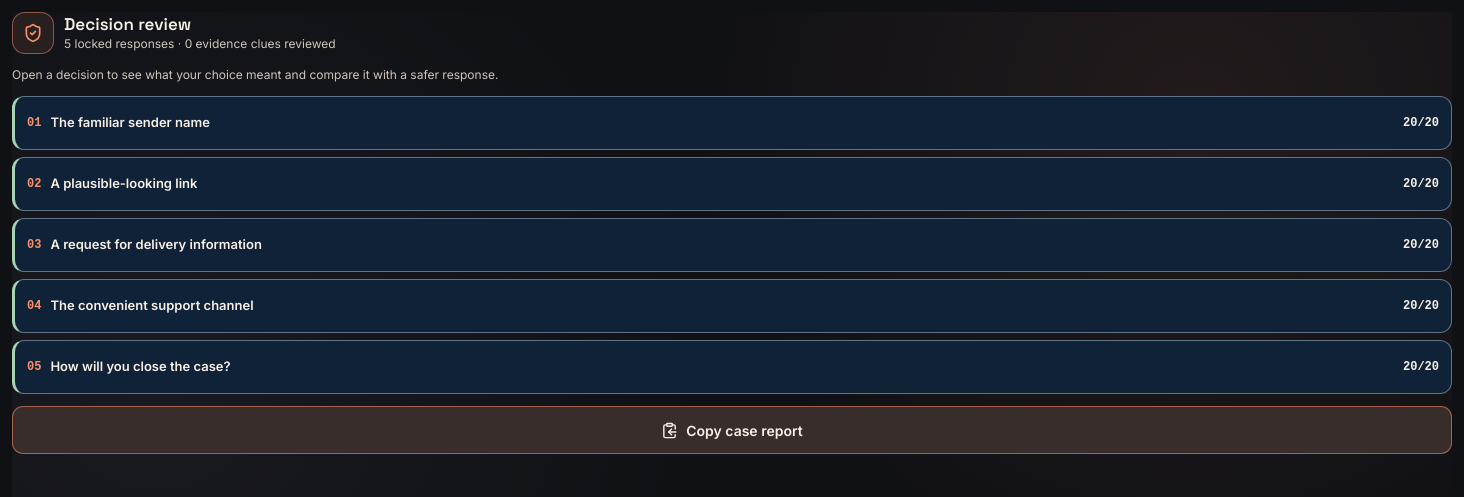
Test: Batch 2D mission completion report › copies only when the player activates the report button
Click the button "Copy case report": click(732, 430) [12,406,1452,454]
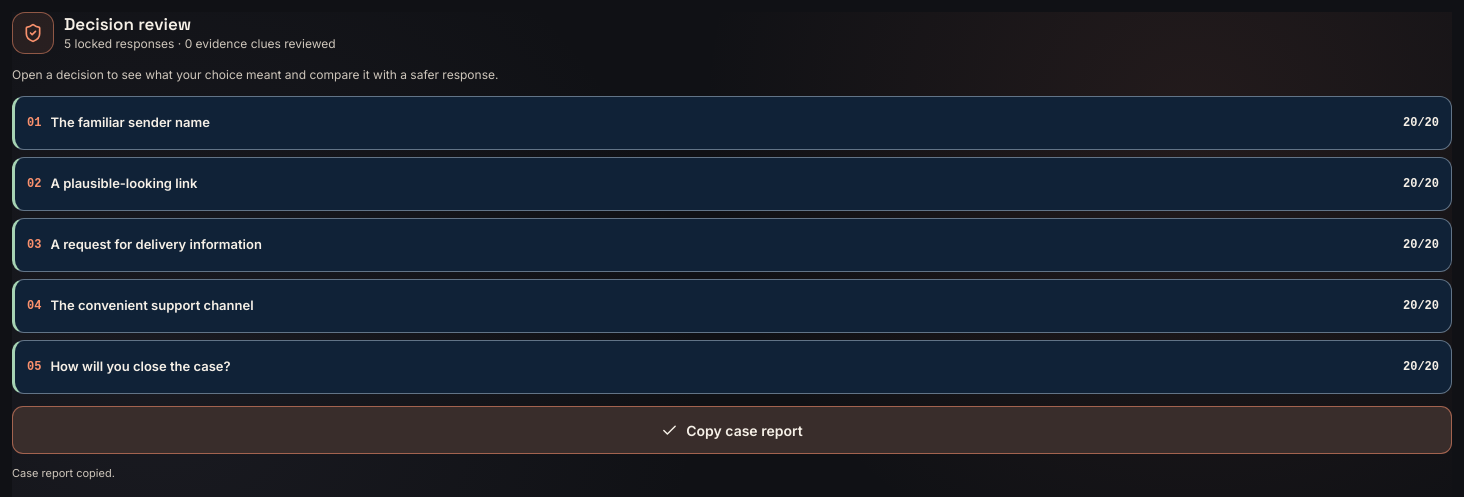
Result: the text "Case report copied." is shown at [12,466,115,480]
